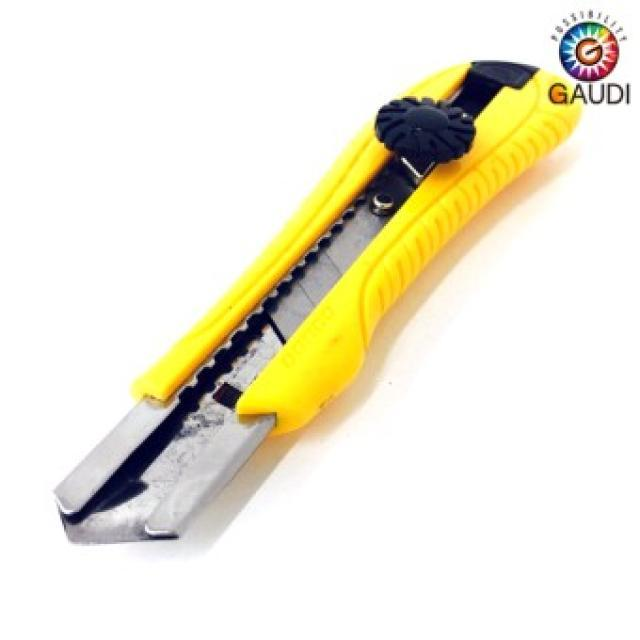cutter: (45, 48, 573, 564)
